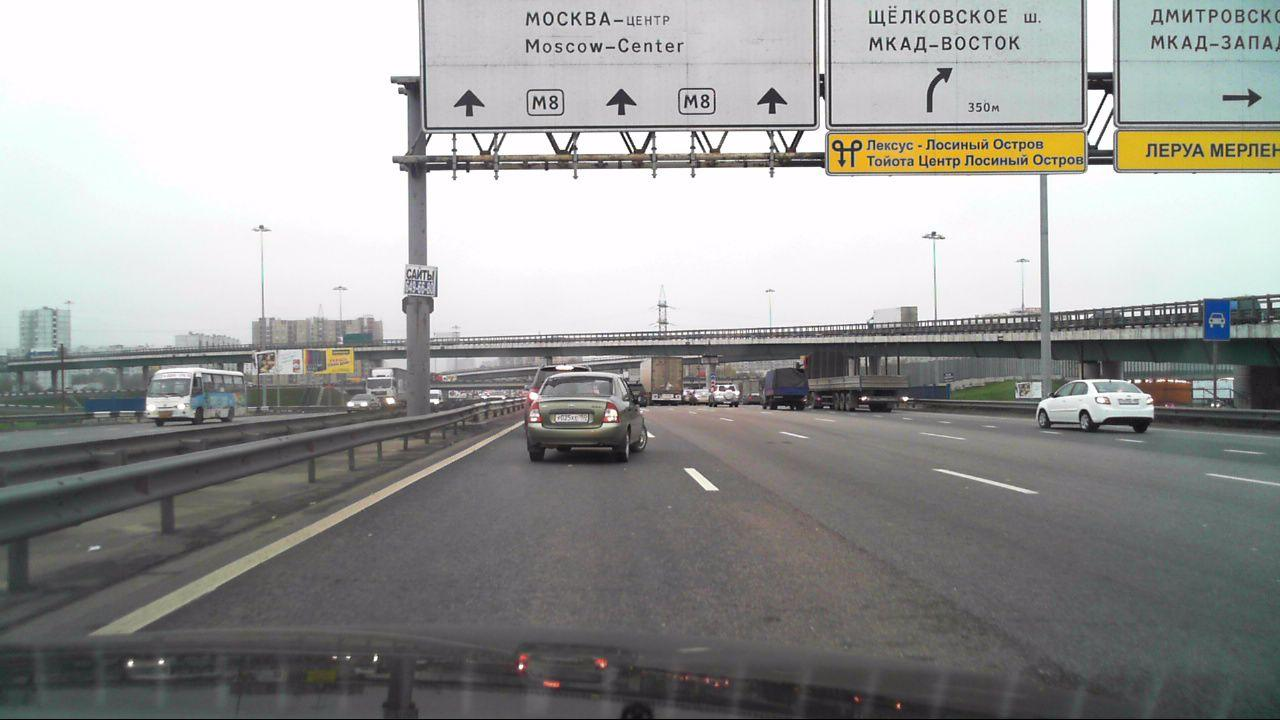5_3: (1201, 298, 1231, 344)
6_10_1: (424, 0, 820, 131), (827, 0, 1091, 130), (1117, 0, 1280, 127)
